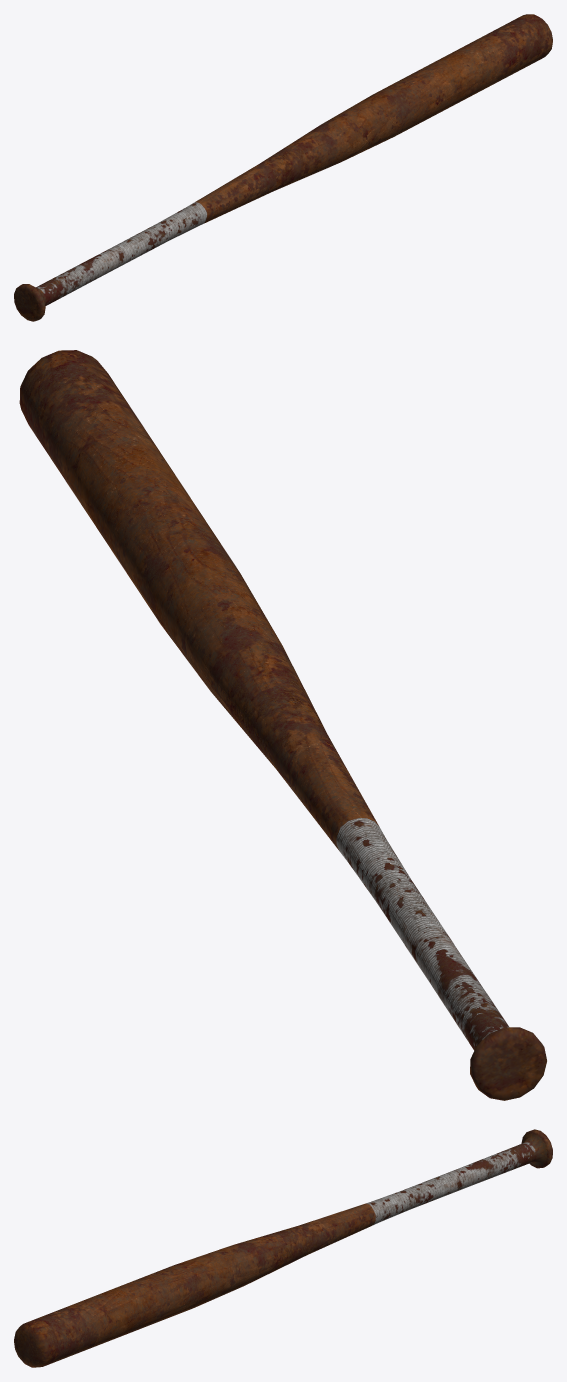
The model's file is Anim_idle_bate_objetos.0024.obj.
The picture shows the model from 3 angles, top to bottom: view 1: azimuth 90°, elevation 25°; view 2: azimuth 150°, elevation 25°; view 3: azimuth 270°, elevation 25°; orthographic projection. The views are drawn at different scales.
Visible parts, largest first — view 1: Bate1; view 2: Bate1; view 3: Bate1.
Part boxes in pixels (x1,y1,x2,y2): Bate1: (14,14,552,321); Bate1: (19,350,546,1100); Bate1: (14,1129,552,1367).
Bounding box in the file's own units: 4.09 × 0.5779 × 3.8.
